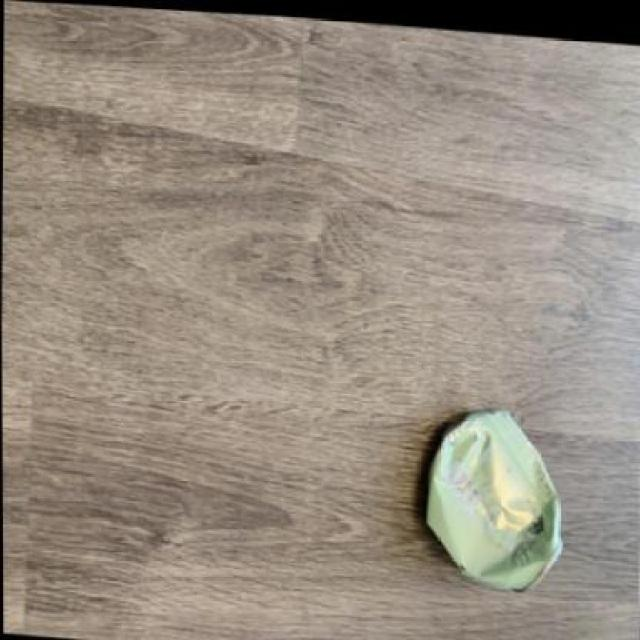Metal: (423, 403, 564, 594)
